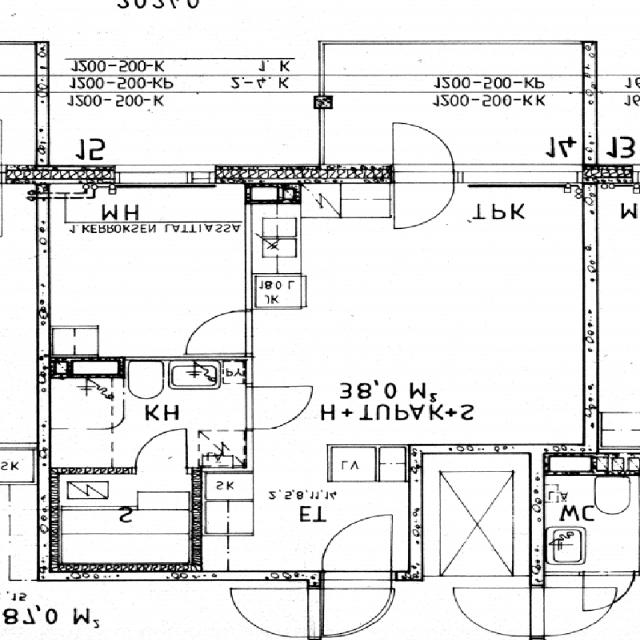door: (394, 120, 455, 183), (394, 165, 455, 228), (324, 570, 390, 628), (324, 522, 390, 580), (245, 385, 312, 429), (186, 311, 252, 353), (134, 428, 188, 476)
